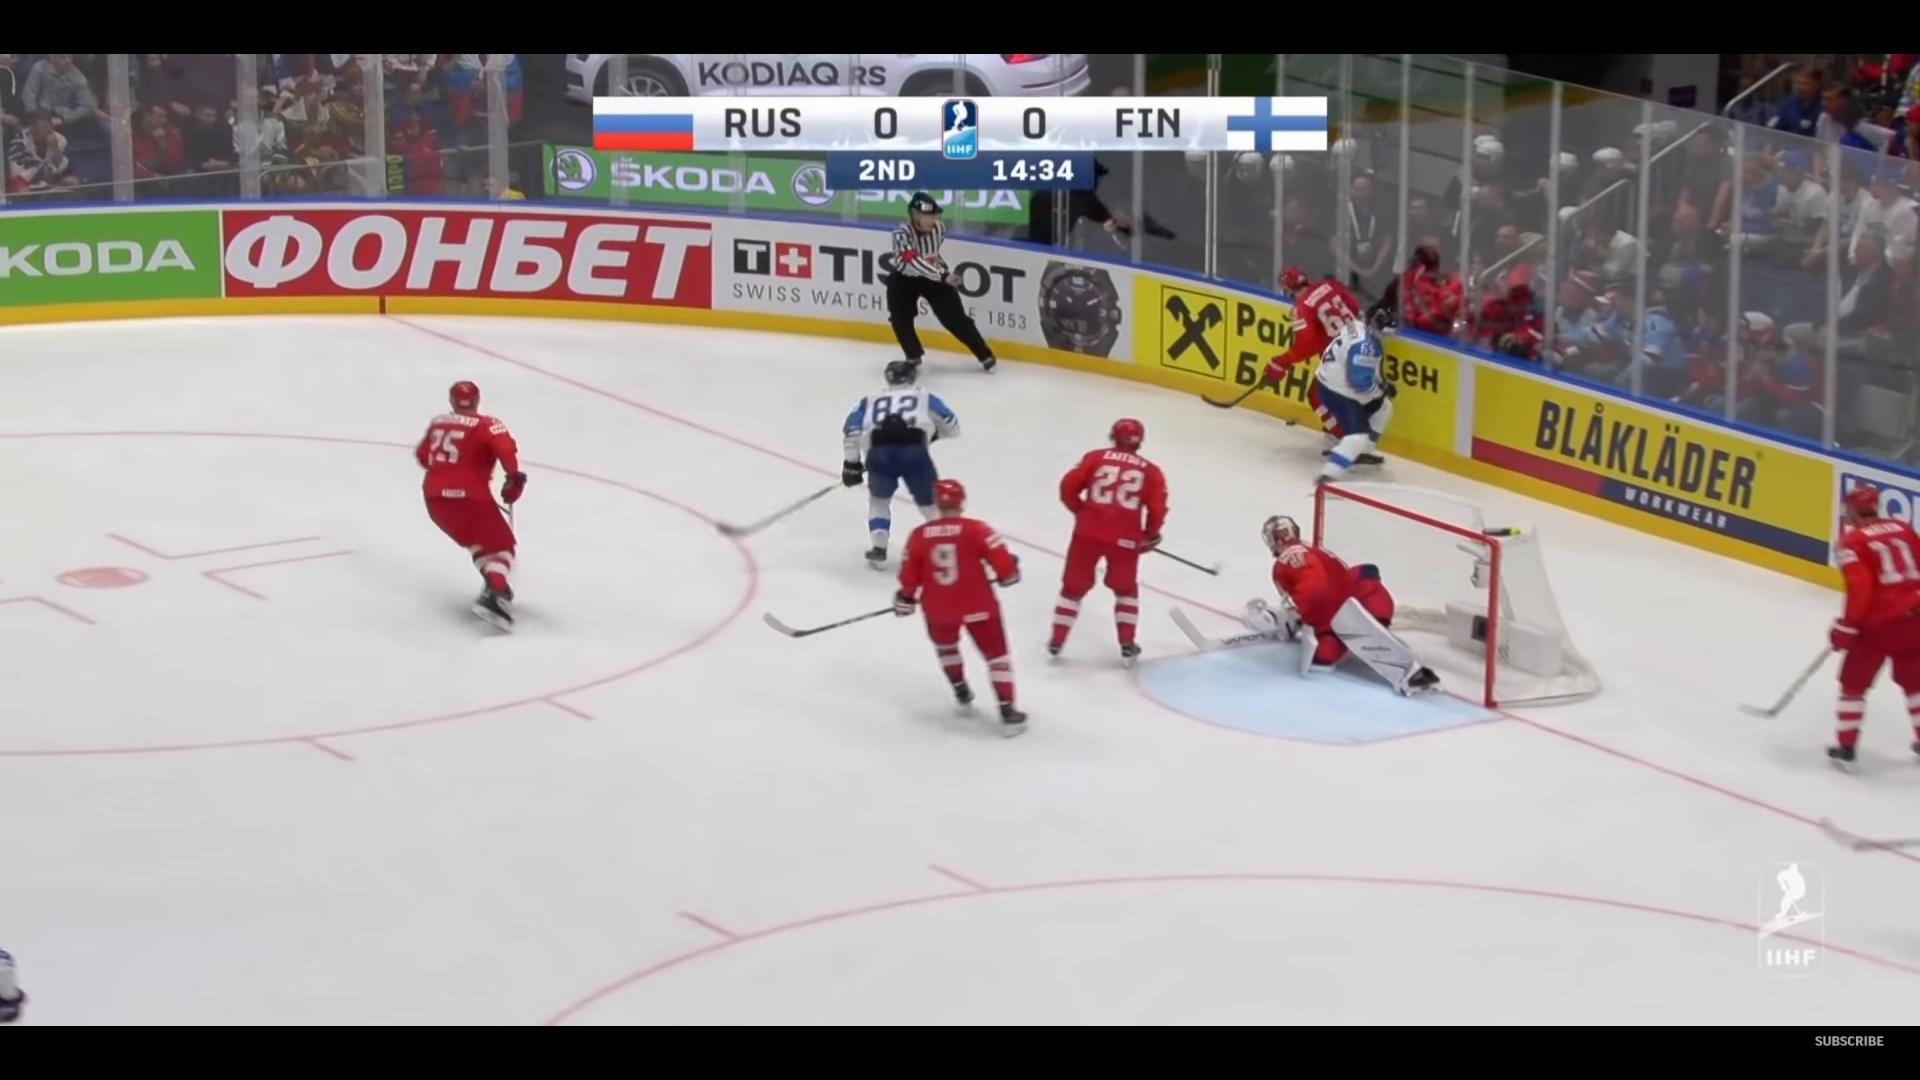puck: (1284, 419, 1295, 426)
